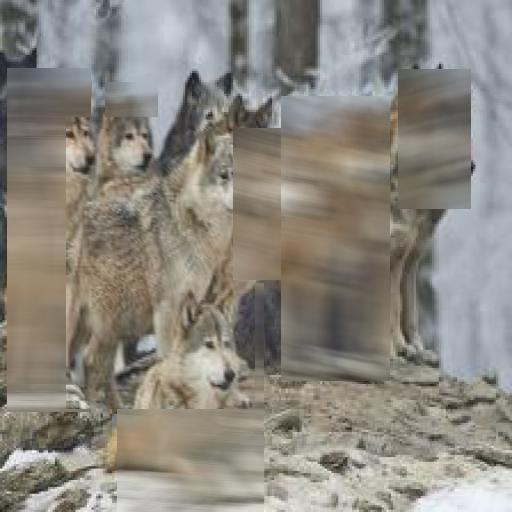wolf: (66, 117, 255, 409), (117, 283, 264, 512), (281, 96, 390, 381), (7, 68, 91, 412), (233, 128, 319, 280), (398, 69, 471, 209), (105, 82, 158, 193)
